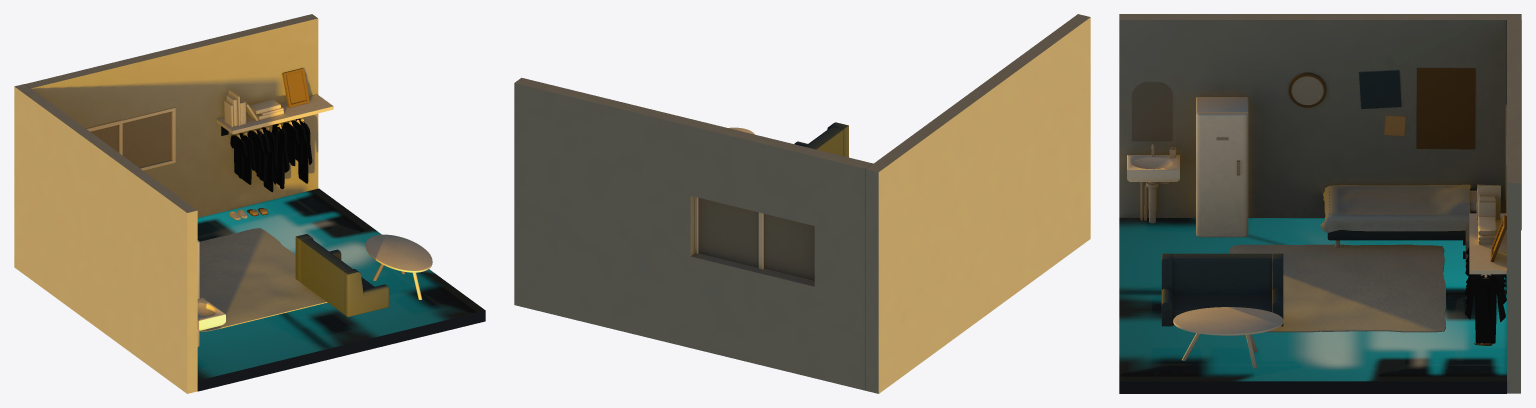
The model's file is Appt 1.fbx.
3 renders of one model, left to right at view 1: azimuth 30°, elevation 25°; view 2: azimuth 150°, elevation 25°; view 3: azimuth 270°, elevation 25°, orthographic. The views are drawn at different scales.
Parts seen in each view (by area): view 1: Mur_gauche__1, Mur_Droit_1, SOL_1, Tapis_1, acoudoir_droit__1, Vitre_2, Table_1, Etagere_1, cadre__1, Vêtement_5_1, Evier_1, Fenetre_2 (+8 smaller); view 2: Mur_Droit_1, Mur_gauche__1, Vitre_2, Vitre, acoudoir_droit__1, Fenetre_2; view 3: Mur_gauche__1, SOL_1, Tapis_1, acoudoir_droit__1, Couverture, Porte_frigo_1, Mur_Droit_1, Poster_1, Table_1, VItre_1, Vêtement_3_1, Etagere_1 (+9 smaller).
Boxes of the visible parts, bbox=[...] form: Mur_gauche__1: bbox=[14, 84, 197, 393]; Mur_Droit_1: bbox=[25, 14, 318, 217]; SOL_1: bbox=[197, 188, 485, 391]; Tapis_1: bbox=[199, 228, 327, 331]; acoudoir_droit__1: bbox=[295, 234, 388, 316]; Vitre_2: bbox=[122, 111, 171, 167]; Table_1: bbox=[365, 234, 432, 272]; Etagere_1: bbox=[216, 94, 333, 134]; cadre__1: bbox=[282, 68, 309, 107]; Vêtement_5_1: bbox=[272, 124, 289, 189]; Evier_1: bbox=[197, 298, 225, 330]; Fenetre_2: bbox=[122, 107, 175, 170]; Mur_Droit_1: bbox=[514, 77, 873, 390]; Mur_gauche__1: bbox=[866, 14, 1090, 393]; Vitre_2: bbox=[698, 197, 758, 267]; Vitre: bbox=[764, 214, 814, 280]; acoudoir_droit__1: bbox=[794, 122, 848, 157]; Fenetre_2: bbox=[694, 197, 763, 269]; Mur_gauche__1: bbox=[1119, 14, 1521, 230]; SOL_1: bbox=[1119, 218, 1506, 393]; Tapis_1: bbox=[1228, 244, 1445, 332]; acoudoir_droit__1: bbox=[1161, 253, 1283, 326]; Couverture: bbox=[1320, 184, 1470, 232]; Porte_frigo_1: bbox=[1196, 113, 1247, 237]; Mur_Droit_1: bbox=[1507, 20, 1520, 393]; Poster_1: bbox=[1416, 68, 1475, 149]; Table_1: bbox=[1173, 307, 1283, 335]; VItre_1: bbox=[1132, 82, 1172, 141]; Vêtement_3_1: bbox=[1465, 274, 1505, 343]; Etagere_1: bbox=[1469, 213, 1506, 274].
Size of the model in its own units: 590 by 345 by 592.
